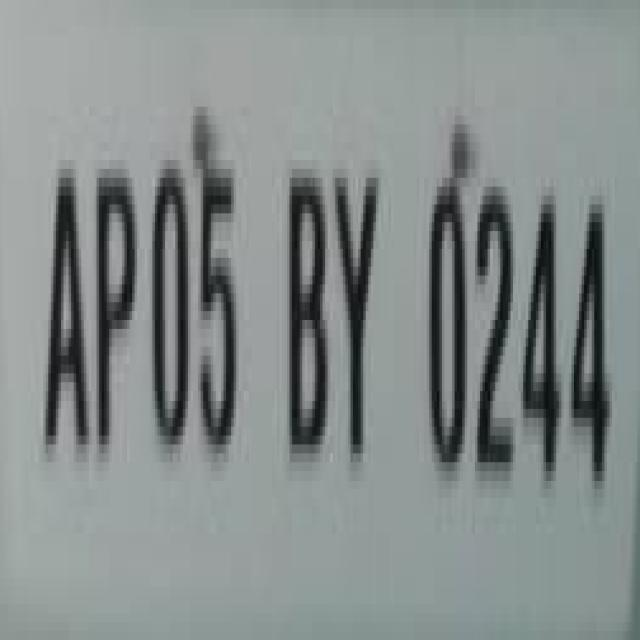plate: (20, 9, 640, 622)
